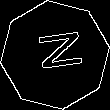N_W: (27, 32, 83, 78)
